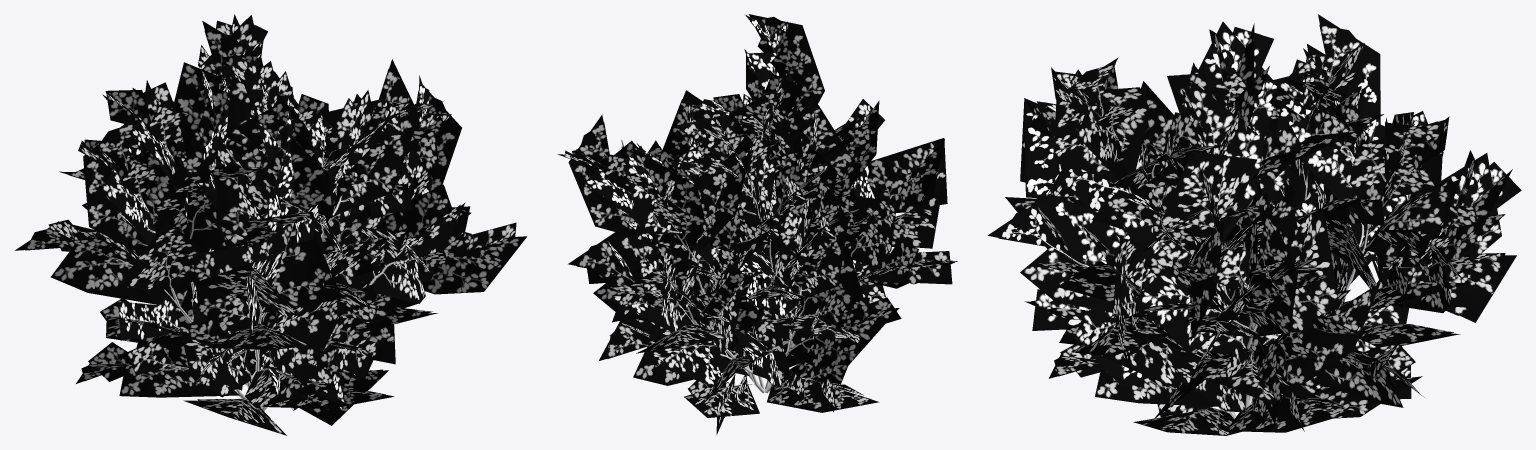
File: bush_spicebush_d.gltf
3 renders of one model, left to right at view 1: azimuth 30°, elevation 25°; view 2: azimuth 150°, elevation 25°; view 3: azimuth 270°, elevation 25°, orthographic. The views are drawn at different scales.
Parts seen in each view (by area): view 1: E:\SteamLibrary\steamapps\common\sbox\addons\rust\models\rus (×2); view 2: E:\SteamLibrary\steamapps\common\sbox\addons\rust\models\rus (×2); view 3: E:\SteamLibrary\steamapps\common\sbox\addons\rust\models\rus (×2).
Part boxes in pixels (<box>): E:\SteamLibrary\steamapps\common\sbox\addons\rust\models\rus (×2): <box>15,14,526,435</box>; E:\SteamLibrary\steamapps\common\sbox\addons\rust\models\rus (×2): <box>557,14,957,434</box>; E:\SteamLibrary\steamapps\common\sbox\addons\rust\models\rus (×2): <box>987,14,1521,435</box>.
Size of the model in its own units: 6.37 by 5.9 by 6.98.
